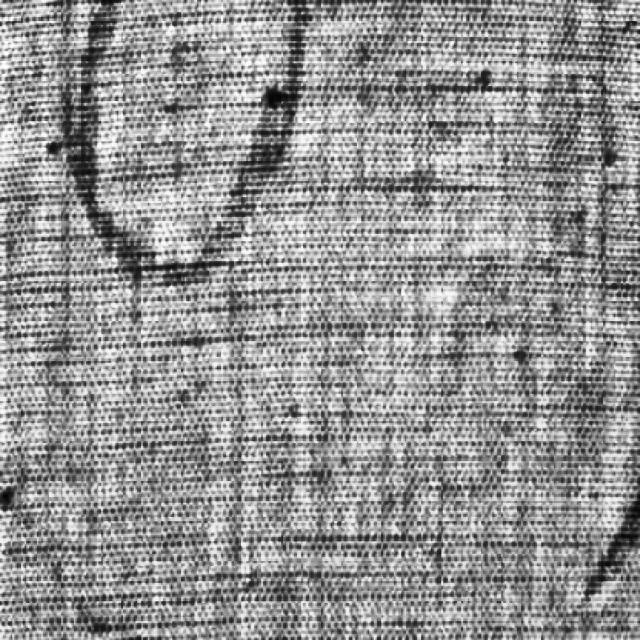oil_spot: (45, 1, 339, 302), (561, 495, 640, 633)
